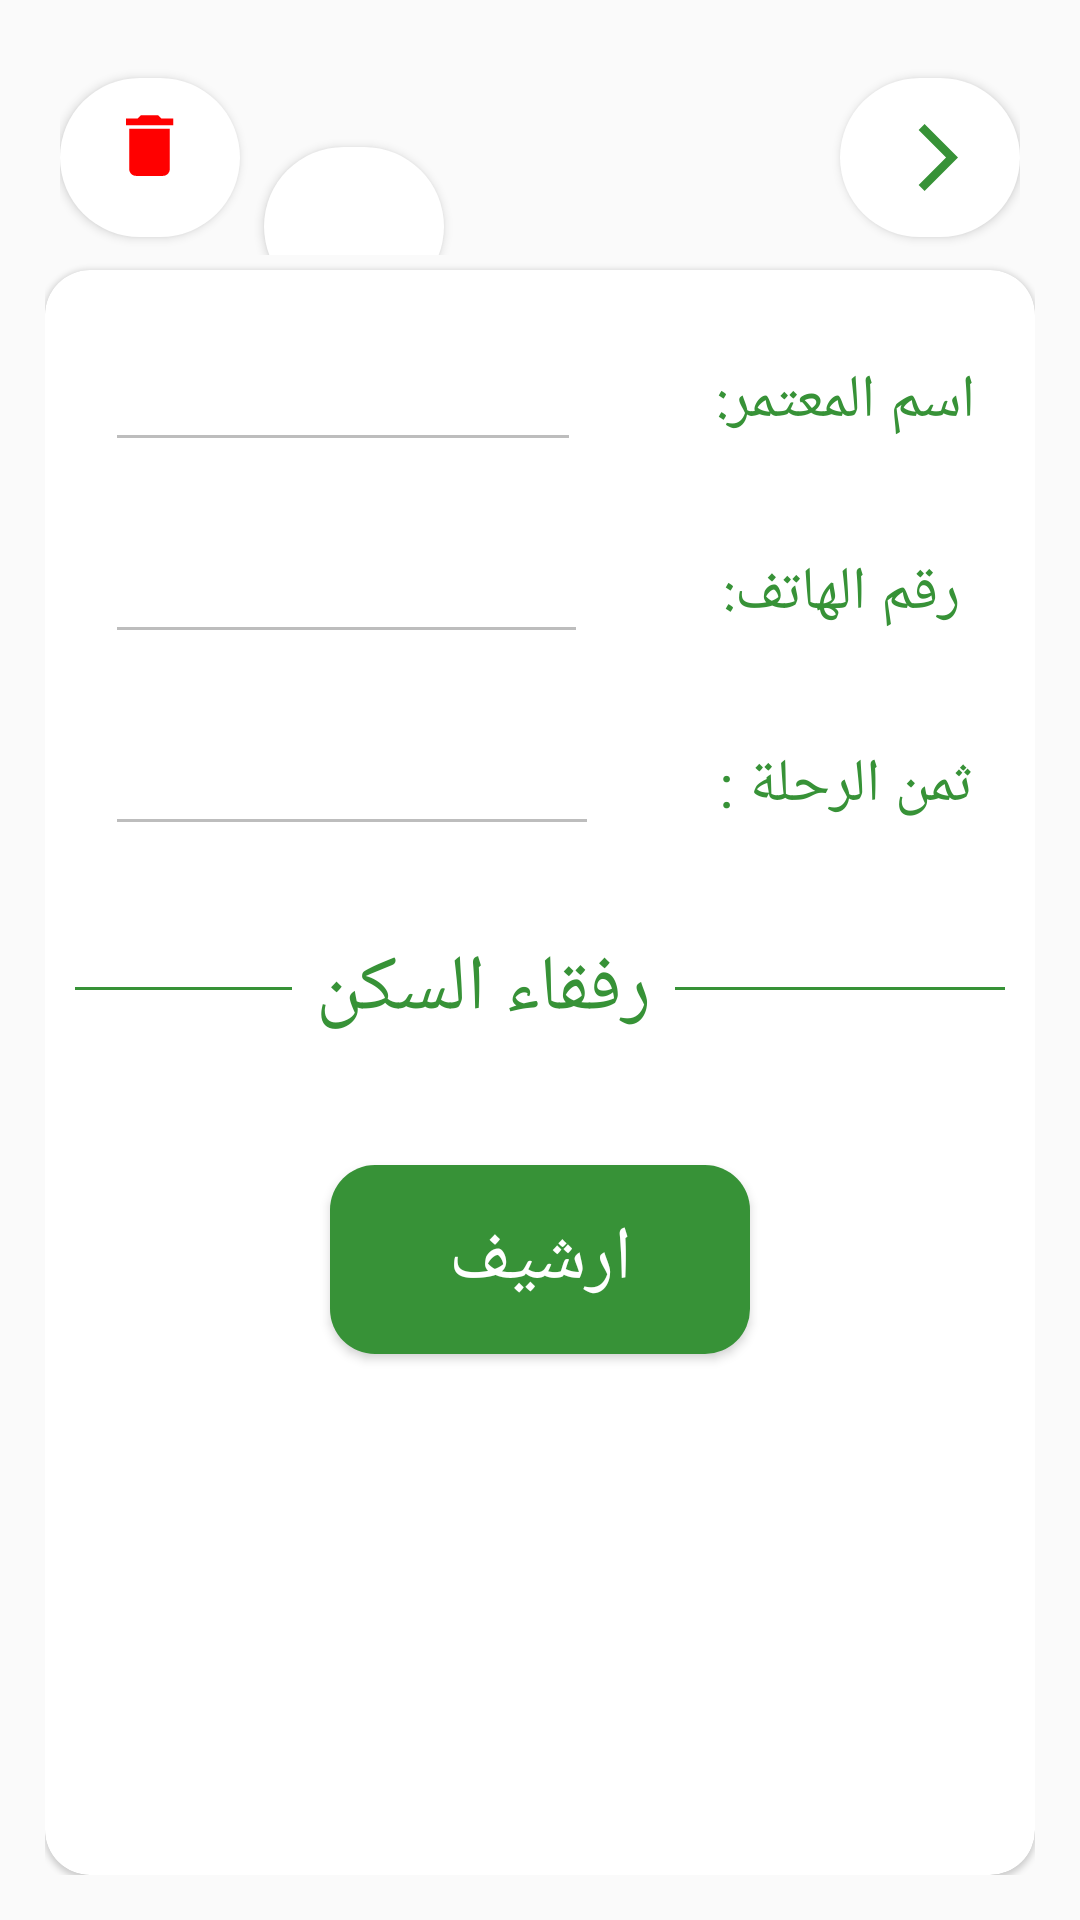

Point at icon controls on the screen. Image size 1080*1920, points as (x=x, y=y).
delete: (x=117, y=170)
